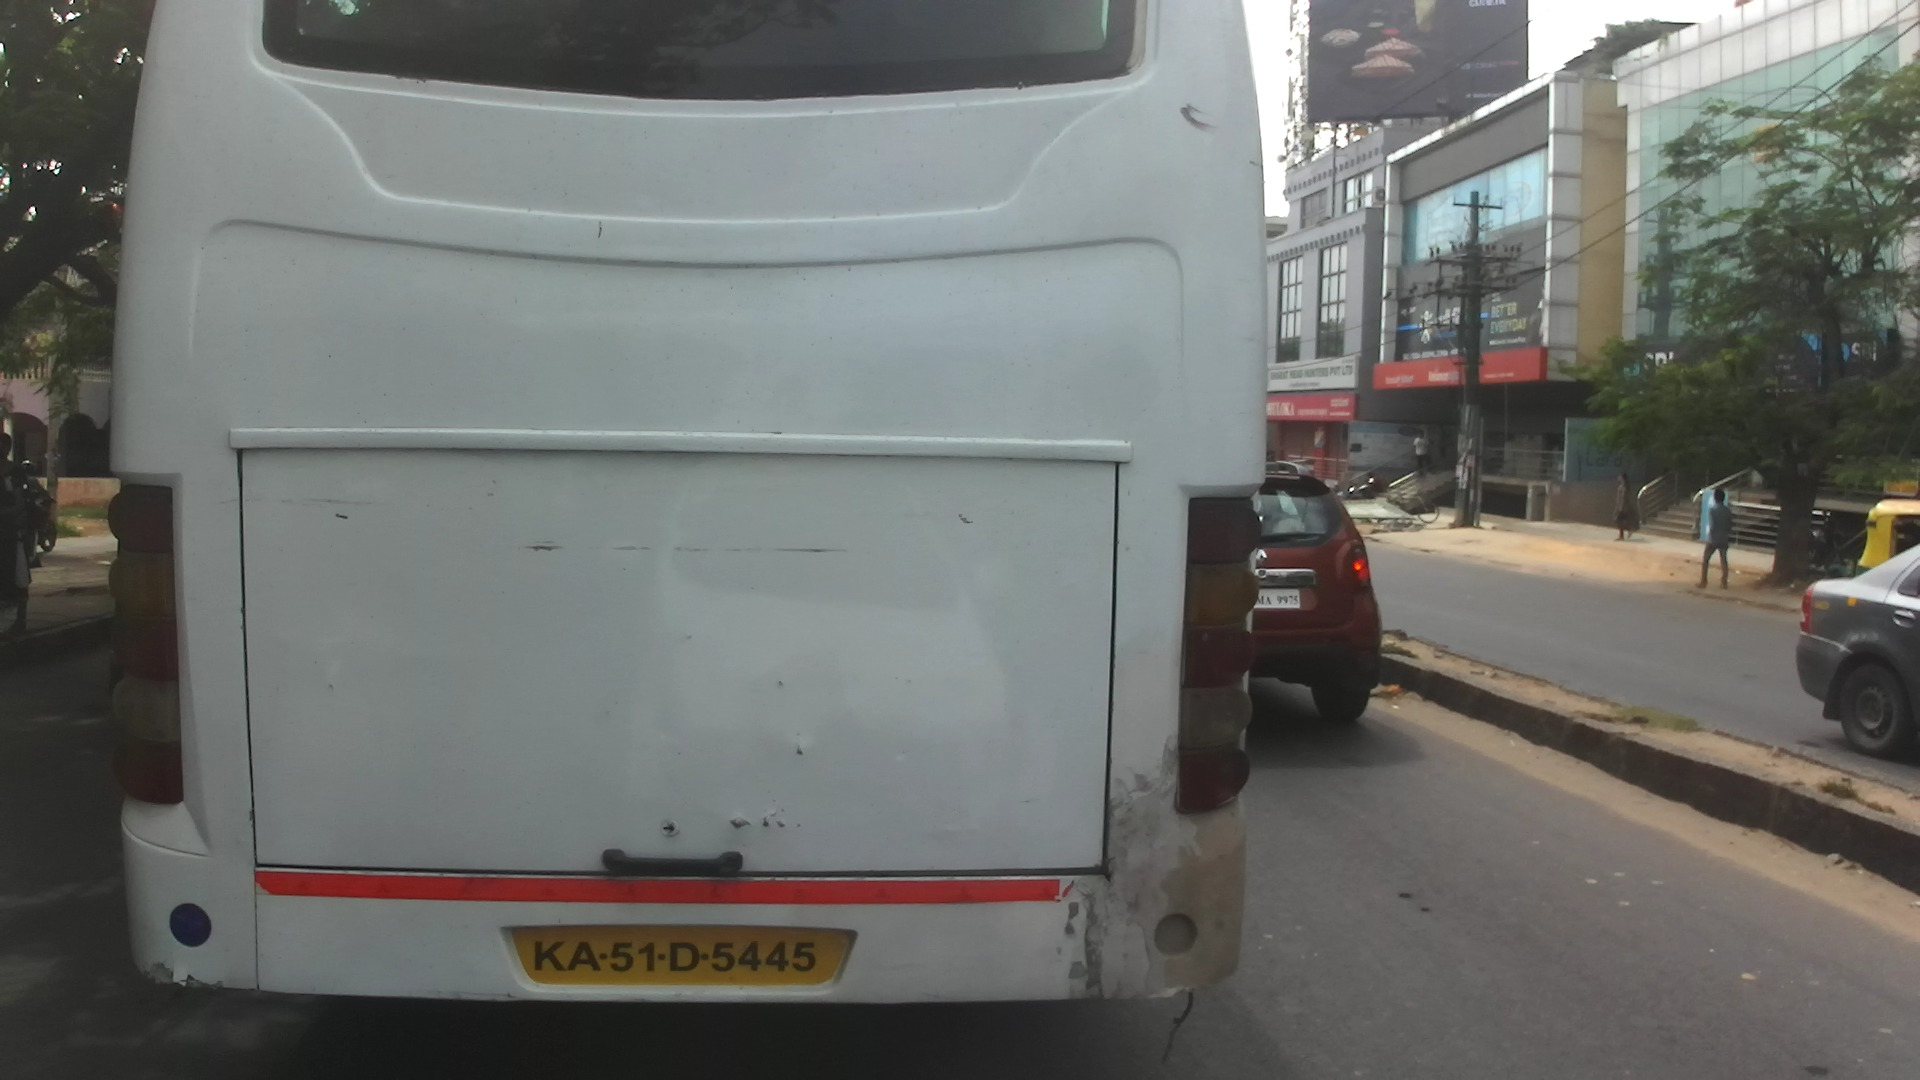autorickshaw: (1857, 498, 1920, 582)
bicycle: (1390, 492, 1439, 523)
bus: (109, 1, 1272, 1010)
car: (1240, 455, 1385, 735), (1794, 531, 1918, 761)
motorcycle: (1, 467, 57, 562), (1808, 510, 1859, 588), (1341, 475, 1380, 501)
person: (1, 427, 31, 637), (1696, 489, 1733, 588), (1612, 473, 1634, 544), (1413, 430, 1433, 476)
rider: (21, 461, 48, 538), (1, 428, 17, 520)
